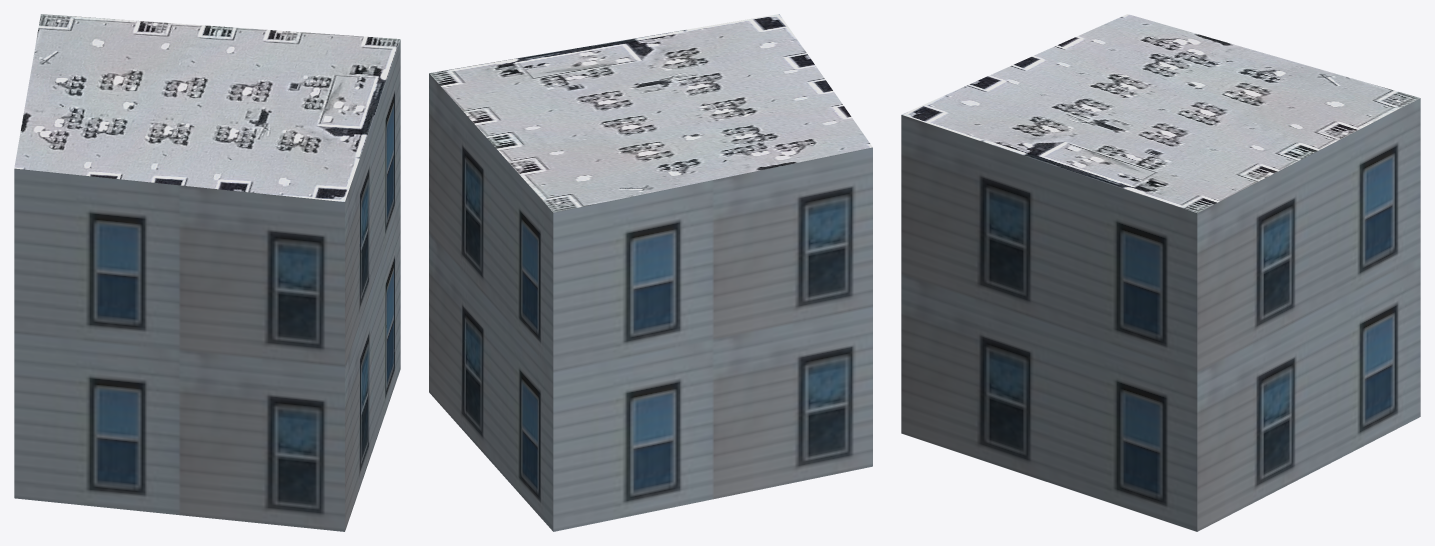
The model's file is ResTex__3584.fbx.
3 views of the same model, side by side, from view 1: azimuth 30°, elevation 25°; view 2: azimuth 150°, elevation 25°; view 3: azimuth 270°, elevation 25° (orthographic). The views are drawn at different scales.
Parts seen in each view (by area): view 1: CityEngineMaterial_18_m, CityEngineMaterial_m; view 2: CityEngineMaterial_18_m, CityEngineMaterial_m; view 3: CityEngineMaterial_18_m, CityEngineMaterial_m.
Boxes of the visible parts, left/top/right/bottom form: CityEngineMaterial_18_m: left=14, top=40, right=400, bottom=531; CityEngineMaterial_m: left=14, top=14, right=400, bottom=201; CityEngineMaterial_18_m: left=429, top=73, right=872, bottom=531; CityEngineMaterial_m: left=429, top=14, right=872, bottom=212; CityEngineMaterial_18_m: left=901, top=98, right=1420, bottom=531; CityEngineMaterial_m: left=901, top=14, right=1420, bottom=212.
Bounding box in the file's own units: 8.04 × 6 × 8.86.
Materials: 2 (2 with a texture image).
